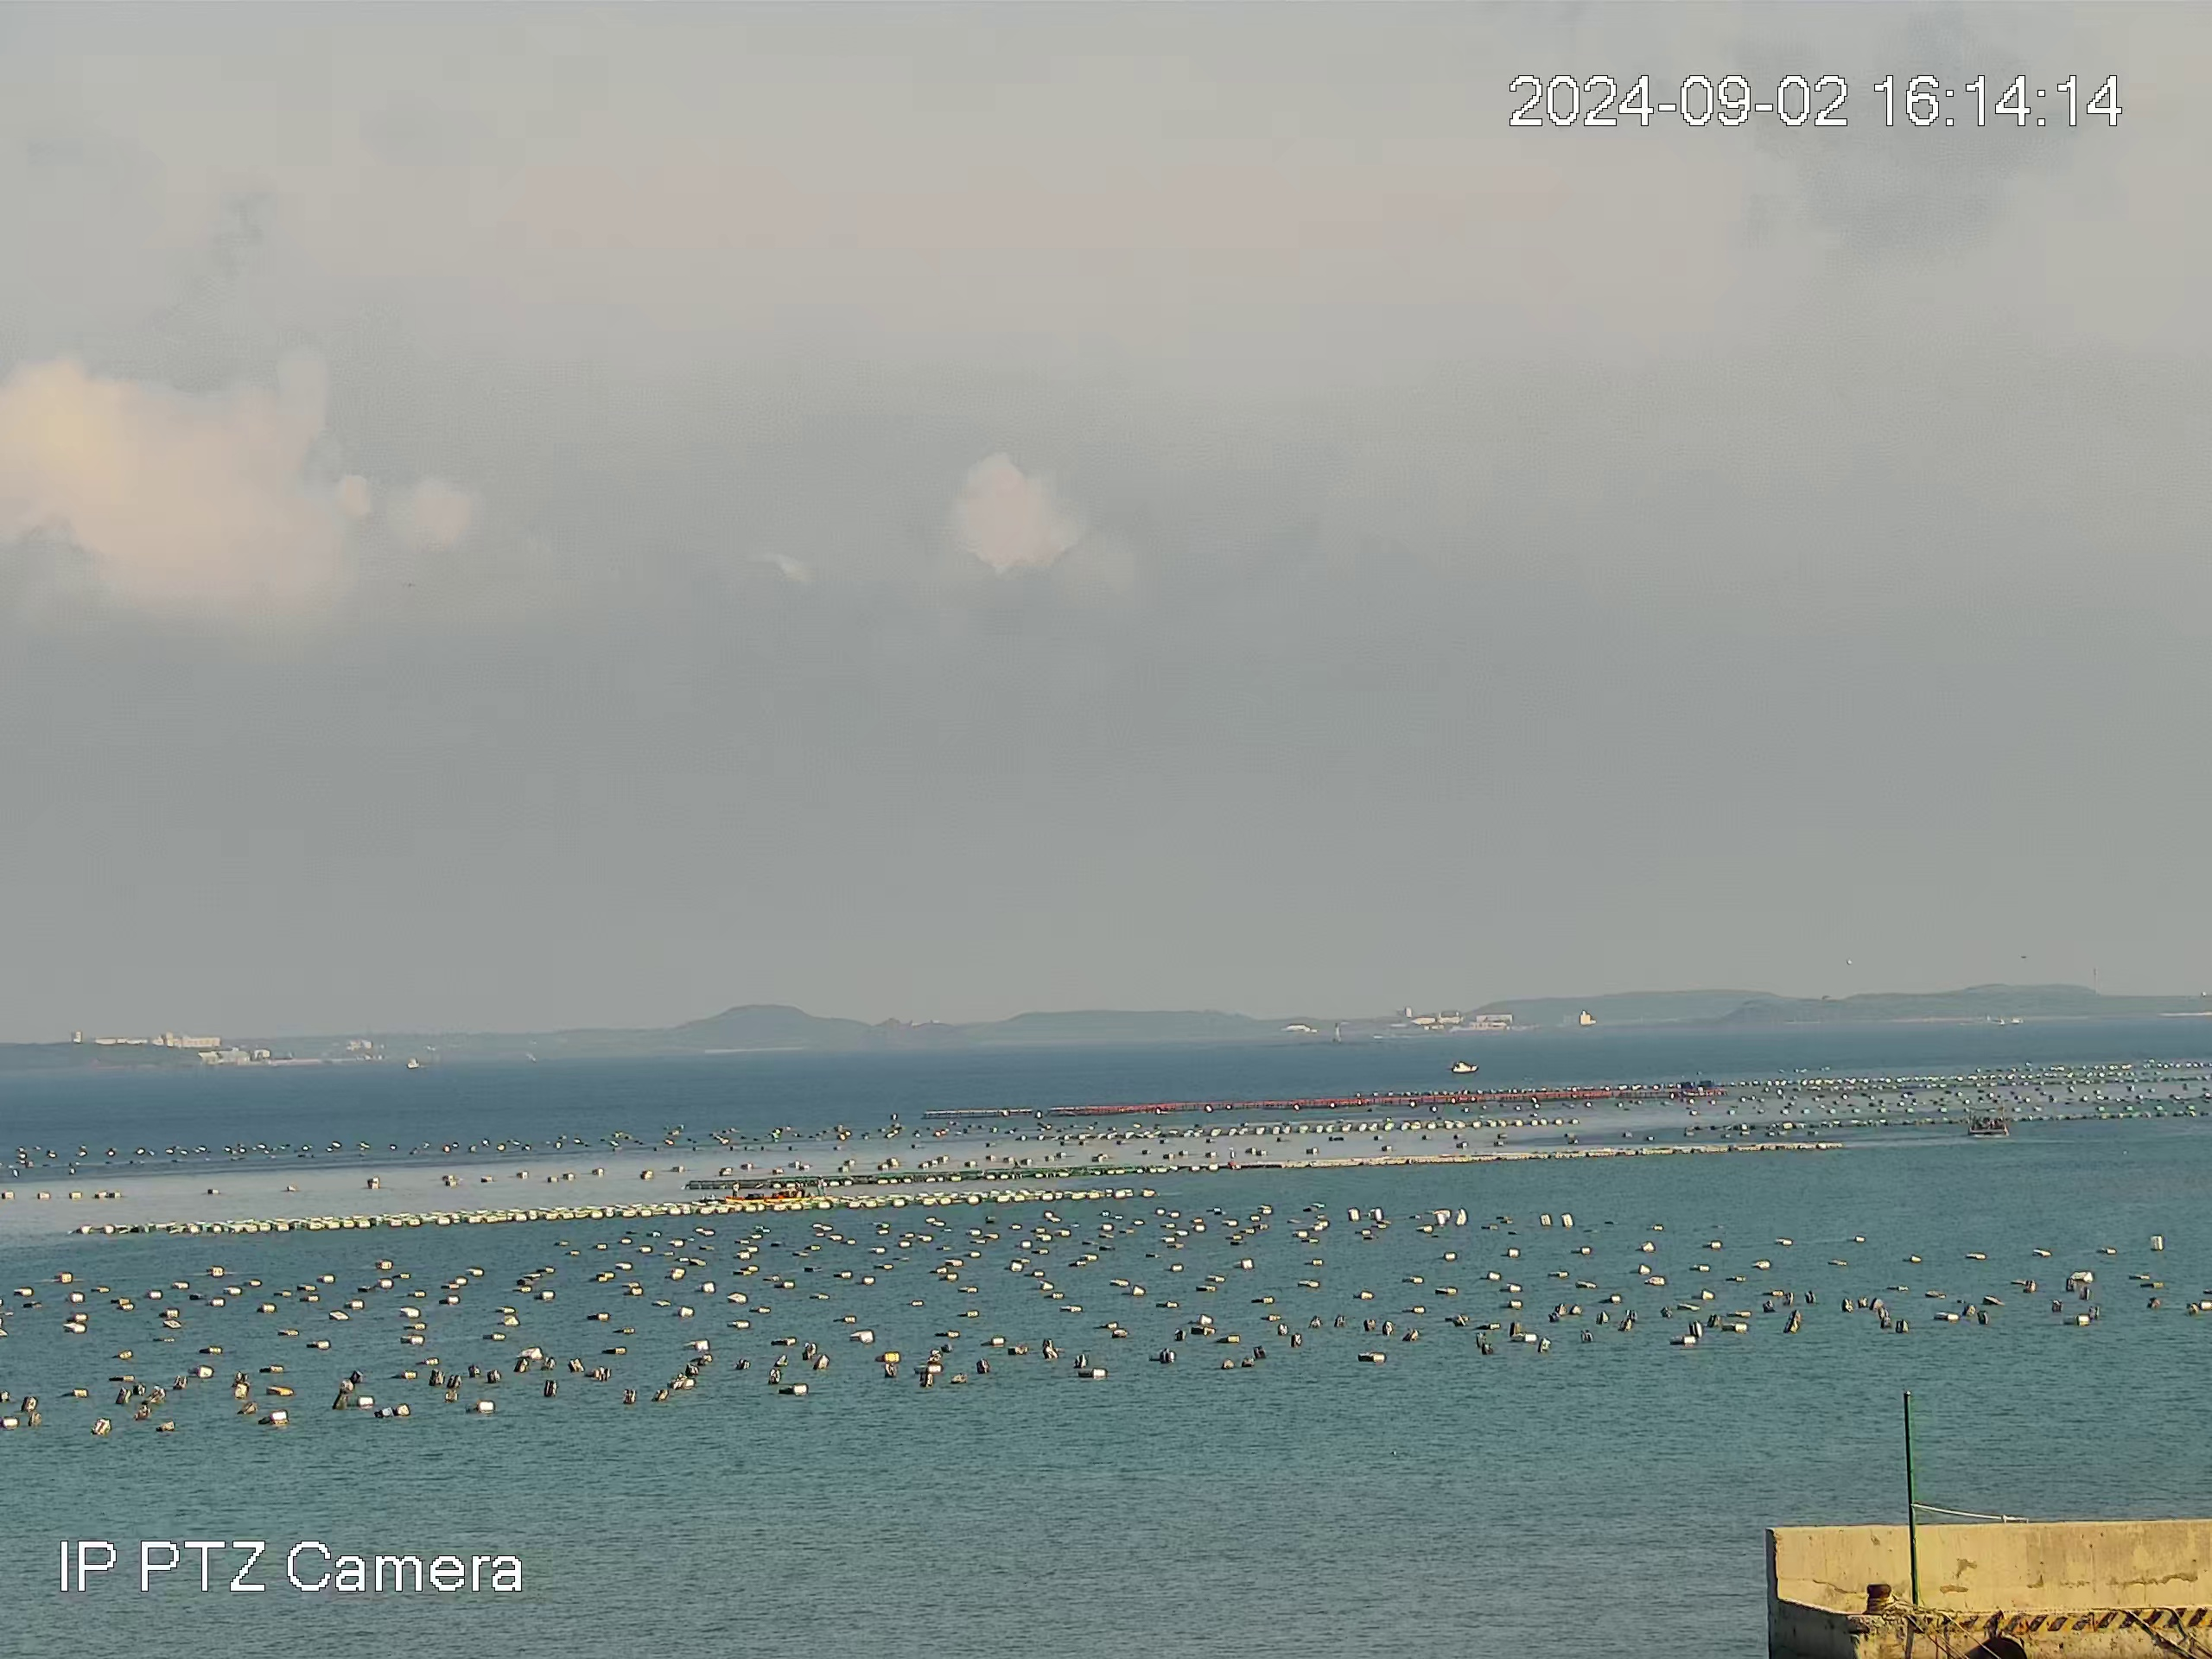boat: (725, 1180, 810, 1202), (1966, 1105, 2010, 1138), (1449, 1058, 1480, 1073)
